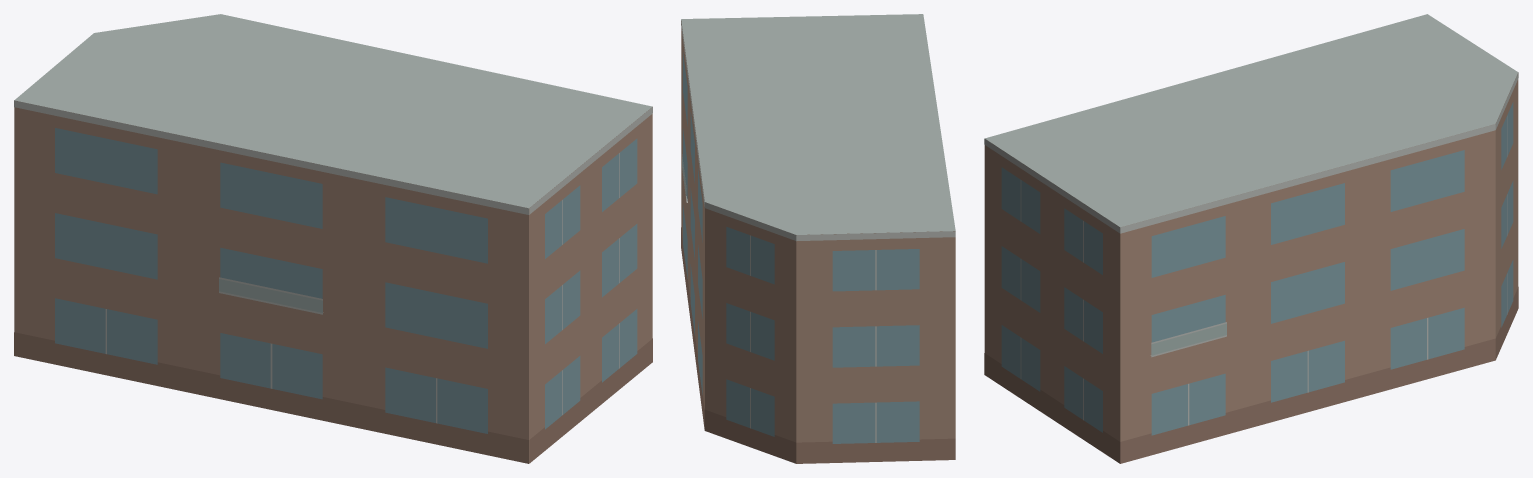
File: survey-upis-32561418.glb
The picture shows the model from 3 angles, left to right: view 1: azimuth 30°, elevation 25°; view 2: azimuth 150°, elevation 25°; view 3: azimuth 270°, elevation 25°; orthographic projection. The views are drawn at different scales.
Parts seen in each view (by area): view 1: survey-upis-32561418.tmp; view 2: survey-upis-32561418.tmp; view 3: survey-upis-32561418.tmp.
Boxes of the visible parts, bbox=[...] form: survey-upis-32561418.tmp: bbox=[14, 14, 652, 463]; survey-upis-32561418.tmp: bbox=[681, 14, 955, 463]; survey-upis-32561418.tmp: bbox=[984, 14, 1518, 463].
Size of the model in its own units: 17.72 by 9.15 by 18.73.
